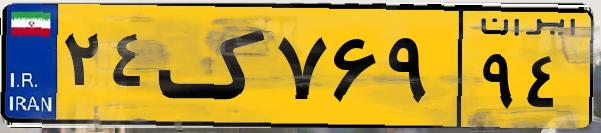2: (57, 26, 110, 100)
4: (525, 38, 570, 115), (110, 28, 158, 98)
6: (330, 28, 385, 110)
7: (270, 28, 330, 110)
9: (385, 28, 445, 110), (475, 38, 525, 113)
ک: (158, 12, 270, 120)
